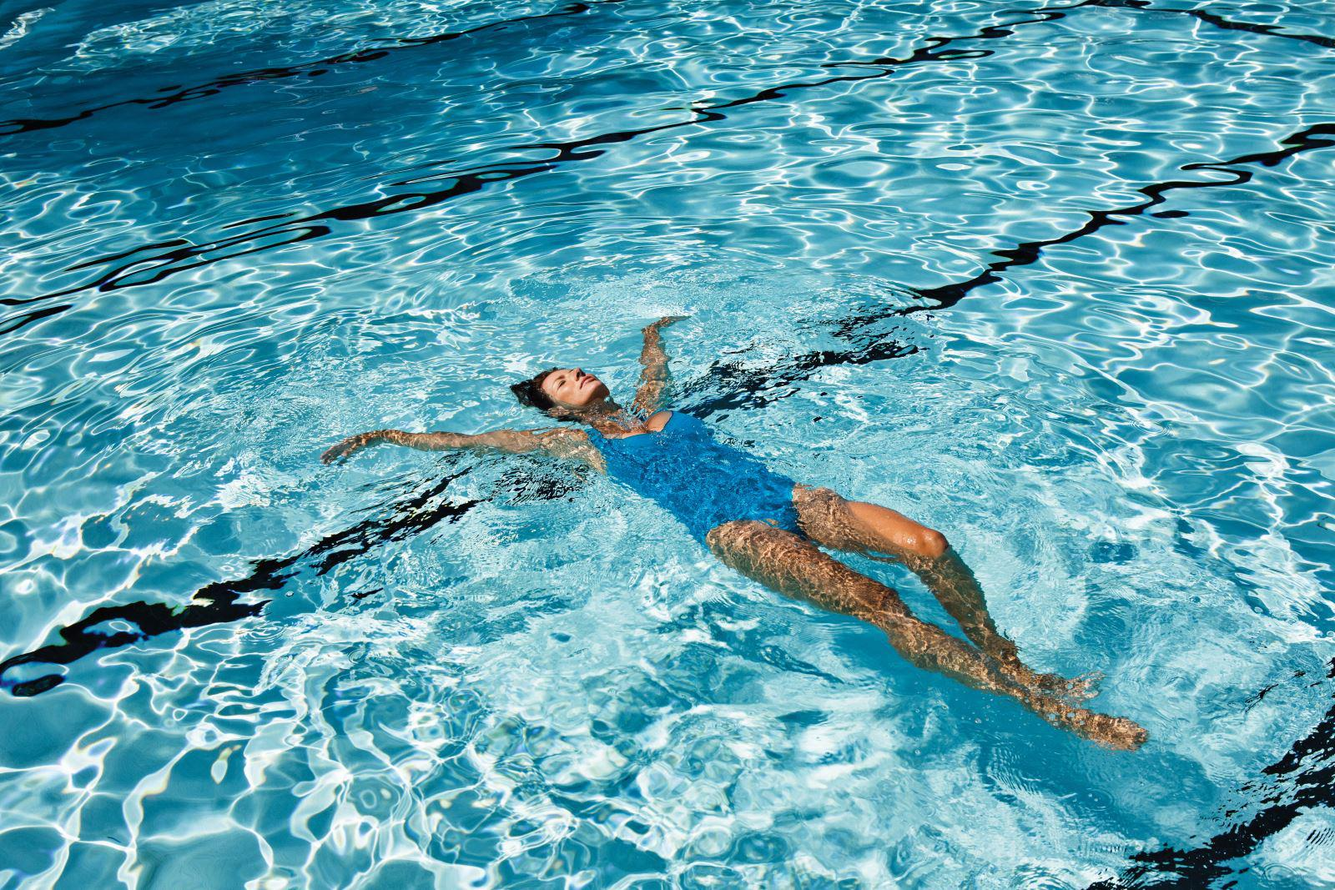swimmer: (318, 308, 1152, 755)
